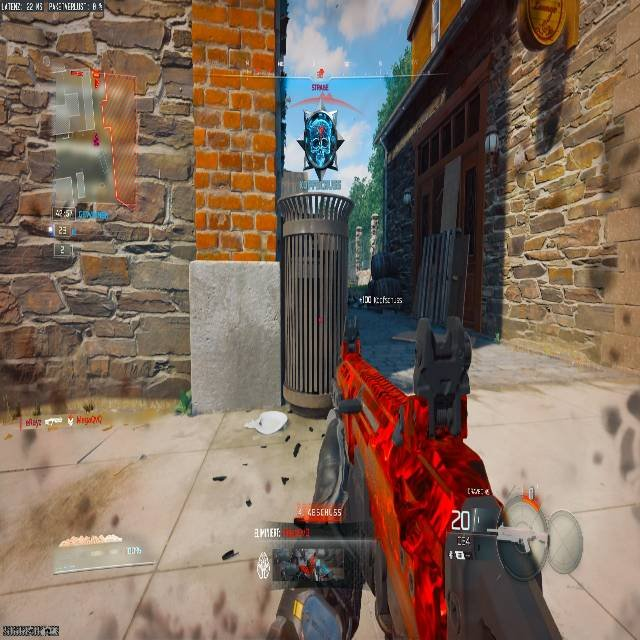player: (301, 109, 341, 177)
